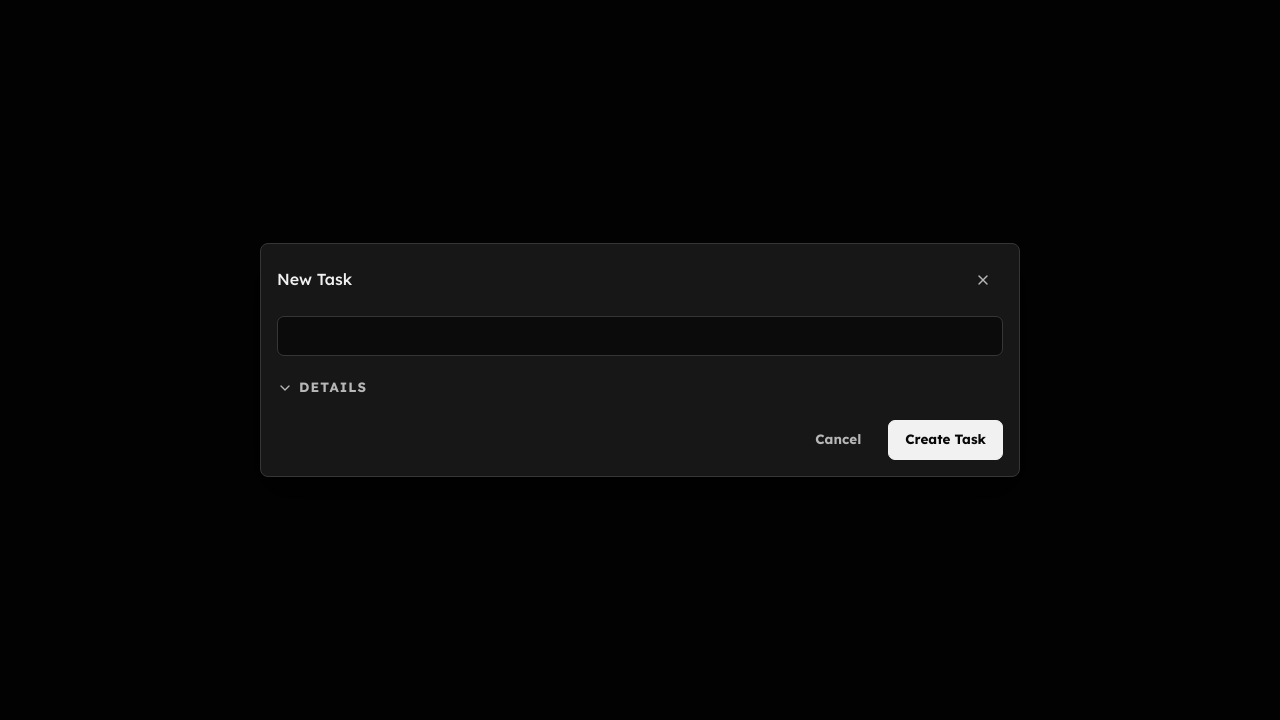
Test case: TaskEditor › renders shared disclosure headings uppercase without uppercasing ordinary labels
Click the button "DETAILS" at (322, 388), box [277,368,367,408]
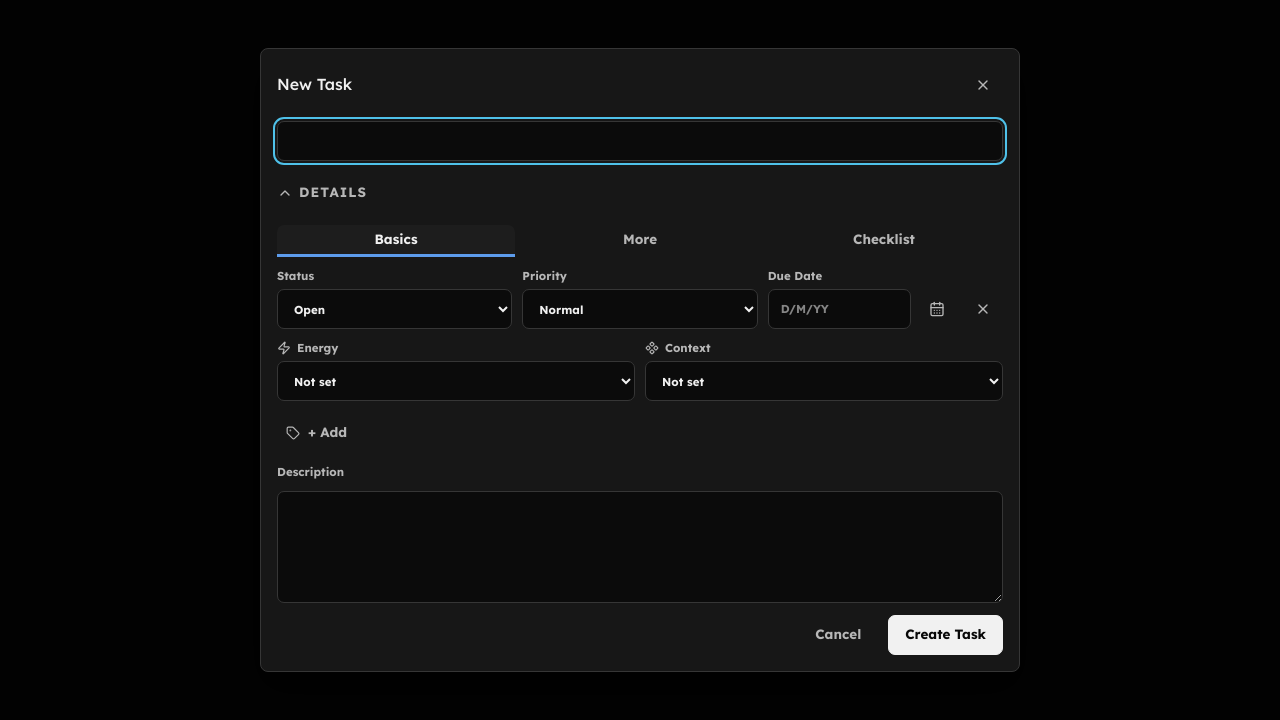
Expected: the field named "Task title" is shown, [277,121,1003,161]
Result: the text "Due Date" is shown at [768,268,822,283]
